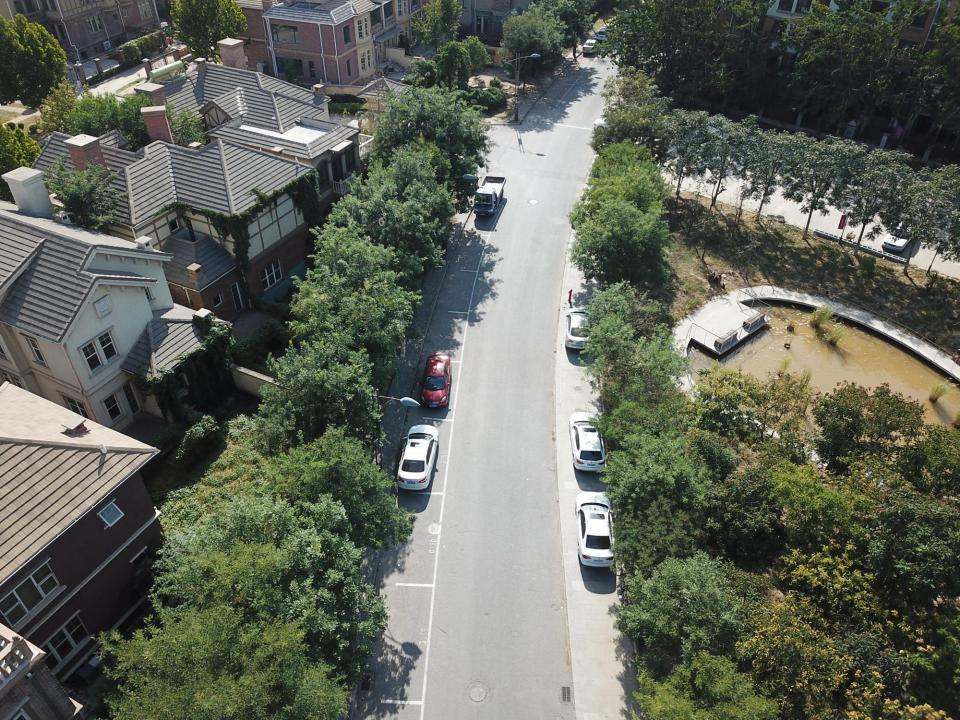car: (575, 491, 614, 568), (397, 424, 438, 488), (568, 411, 606, 472), (419, 354, 452, 408), (881, 219, 919, 254), (565, 307, 594, 351), (593, 112, 632, 134), (595, 27, 615, 43), (582, 38, 601, 54)
truck: (469, 174, 507, 216)
